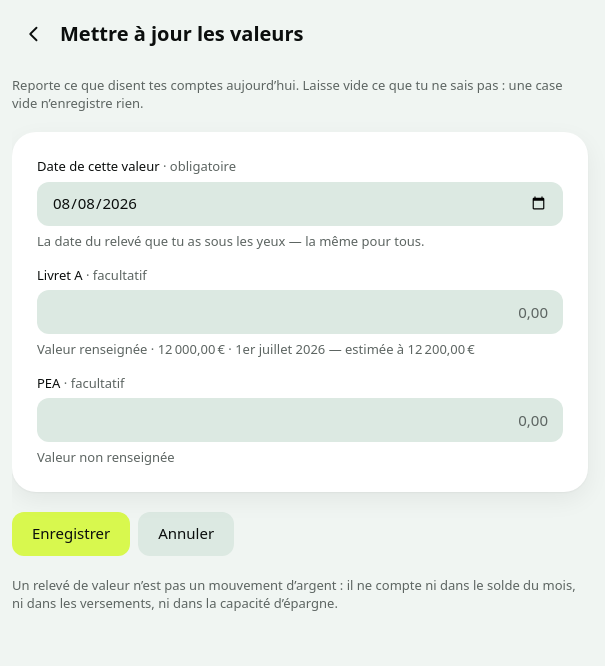
Test: relever plusieurs supports d’un coup › n’enregistre rien quand tout est vide, et le dit
Click the button "Enregistrer".
click(71, 534)  # box [12,512,130,556]
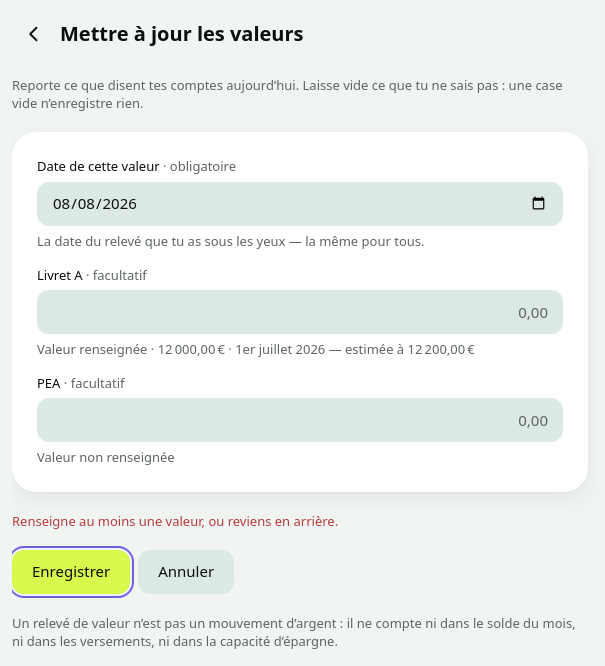
Check: the text "Renseigne au moins une valeur, ou reviens en arrière." is shown, box [12,512,338,530]
